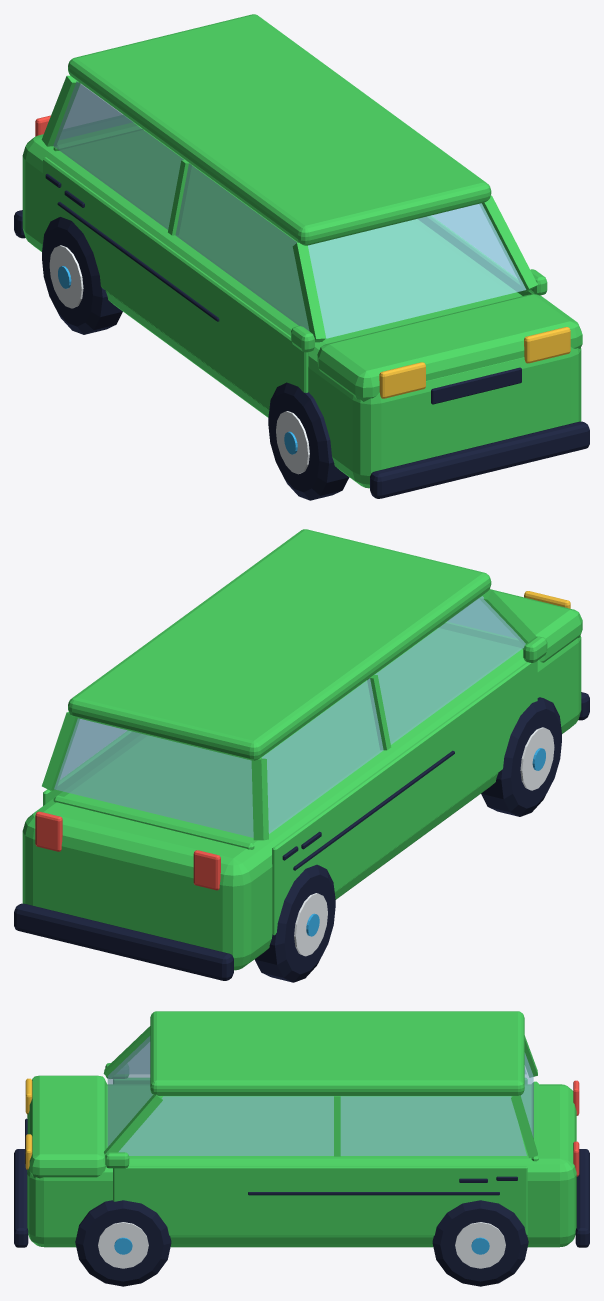
File: V04_minivan.glb
3 views of the same model, one above another, from view 1: azimuth 30°, elevation 25°; view 2: azimuth 150°, elevation 25°; view 3: azimuth 270°, elevation 25° (orthographic). The views are drawn at different scales.
Parts seen in each view (by area): view 1: Body, Glass, Door_R, Bumper_Front, Wheel_FR, Wheel_RR, Trunk, Grille, Door_L, Headlight_1, Headlight_-1; view 2: Body, Glass, Door_R, Trunk, Bumper_Rear, Wheel_FR, Wheel_RR, Door_L, Taillight_-1, Taillight_1; view 3: Body, Glass, Door_L, Wheel_FL, Wheel_RL, Bumper_Front, Bumper_Rear, Trunk, Mirror_L.
Boxes of the visible parts, x1,y1,x2,y2 form: Body: [22, 14, 582, 488]; Glass: [53, 81, 525, 338]; Door_R: [43, 157, 308, 409]; Bumper_Front: [370, 421, 589, 498]; Wheel_FR: [268, 382, 349, 500]; Wheel_RR: [42, 217, 122, 334]; Trunk: [53, 84, 143, 151]; Grille: [431, 367, 521, 404]; Door_L: [418, 216, 533, 295]; Headlight_1: [524, 327, 570, 363]; Headlight_-1: [379, 362, 425, 398]; Body: [22, 529, 582, 970]; Glass: [60, 596, 525, 833]; Door_R: [272, 661, 537, 935]; Trunk: [53, 718, 254, 849]; Bumper_Rear: [14, 903, 233, 980]; Wheel_FR: [481, 697, 561, 816]; Wheel_RR: [254, 864, 335, 982]; Door_L: [43, 730, 140, 805]; Taillight_-1: [193, 850, 220, 890]; Taillight_1: [35, 811, 62, 851]; Body: [27, 1011, 576, 1247]; Glass: [107, 1036, 526, 1155]; Door_L: [113, 1166, 527, 1236]; Wheel_FL: [75, 1200, 171, 1286]; Wheel_RL: [432, 1200, 528, 1286]; Bumper_Front: [14, 1149, 28, 1247]; Bumper_Rear: [575, 1149, 589, 1247]; Trunk: [521, 1053, 538, 1161]; Mirror_L: [105, 1152, 129, 1168].
Size of the model in its own units: 1.9 by 1.8 by 4.8.
